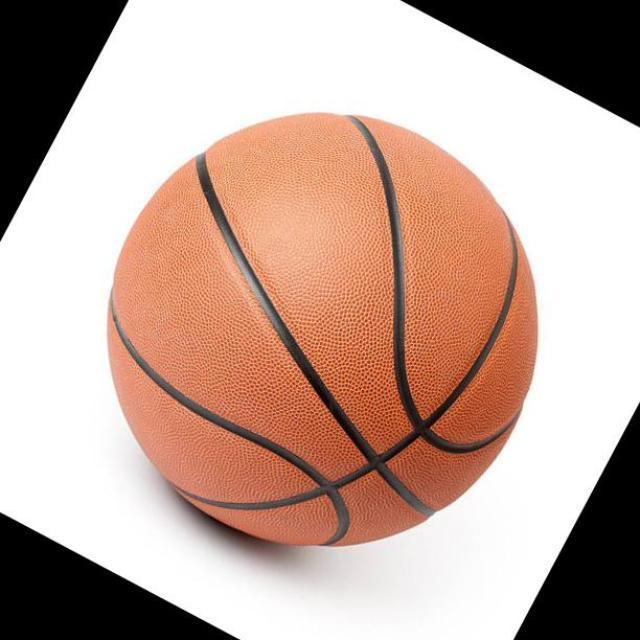basketball: (106, 112, 540, 544)
